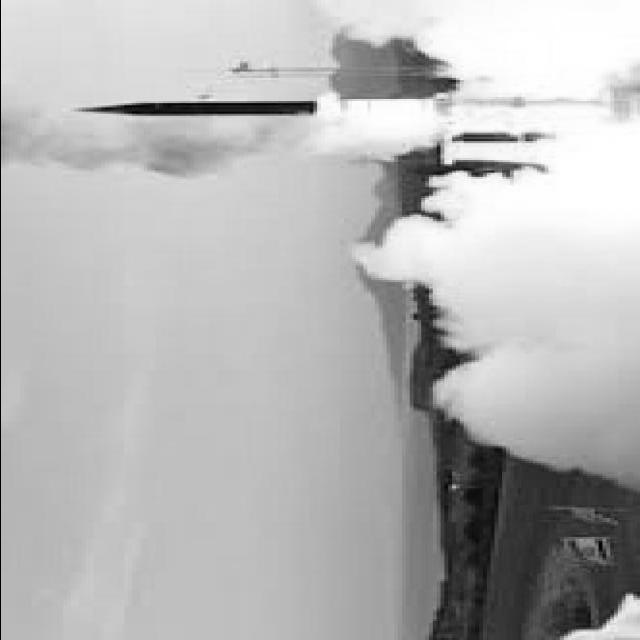Missile: (60, 96, 326, 121)
